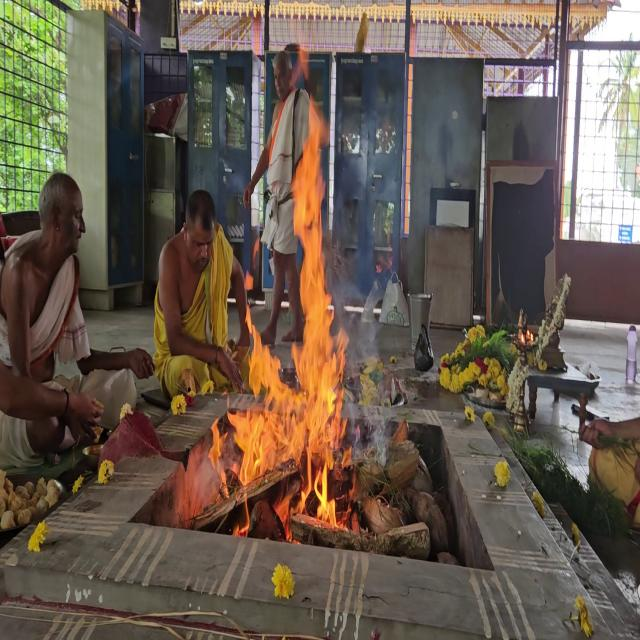fire: (208, 31, 360, 550)
